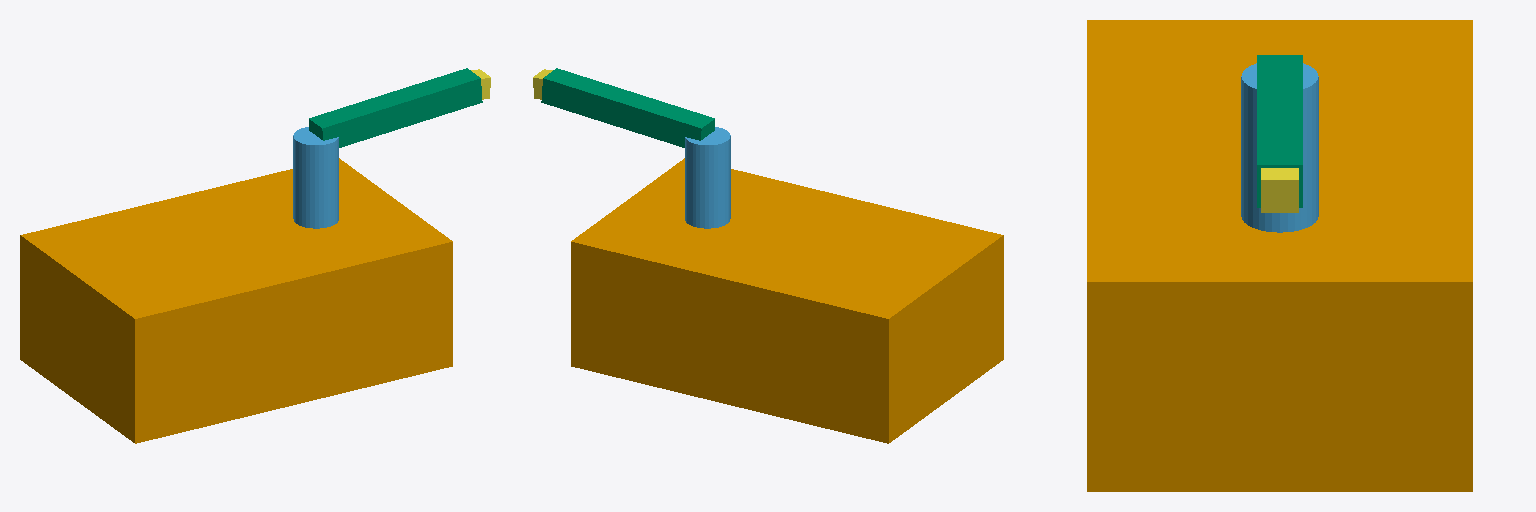
robot.urdf — mobile_manipulator:
<?xml version="1.0"?>
<!-- Articulated test robot: a skid-steer base carrying an arm whose
     elbow range excludes zero, a mimic wrist and a prismatic gripper. -->
<robot name="mobile_manipulator">
  <link name="base_link">
    <visual><geometry><box size="0.8 0.5 0.3"/></geometry></visual>
  </link>
  <link name="shoulder_link">
    <visual><origin xyz="0 0 0.1"/><geometry><cylinder radius="0.05" length="0.2"/></geometry></visual>
  </link>
  <joint name="shoulder" type="revolute">
    <parent link="base_link"/><child link="shoulder_link"/>
    <origin xyz="0.2 0 0.15"/><axis xyz="0 0 1"/>
    <limit lower="-2" upper="2" effort="10" velocity="1"/>
  </joint>
  <link name="upper_arm">
    <visual><origin xyz="0 0 0.2"/><geometry><box size="0.06 0.06 0.4"/></geometry></visual>
  </link>
  <joint name="elbow" type="revolute">
    <parent link="shoulder_link"/><child link="upper_arm"/>
    <origin xyz="0 0 0.2"/><axis xyz="0 1 0"/>
    <limit lower="0.5" upper="2.5" effort="10" velocity="1"/>
  </joint>
  <link name="wrist_link">
    <visual><geometry><box size="0.05 0.05 0.05"/></geometry></visual>
  </link>
  <joint name="wrist" type="revolute">
    <parent link="upper_arm"/><child link="wrist_link"/>
    <origin xyz="0 0 0.4"/><axis xyz="0 1 0"/>
    <limit lower="-3" upper="3" effort="10" velocity="1"/>
    <mimic joint="elbow" multiplier="-1" offset="0.1"/>
  </joint>
  <link name="finger"/>
  <joint name="finger_joint" type="prismatic">
    <parent link="wrist_link"/><child link="finger"/>
    <origin xyz="0 0 0.05"/><axis xyz="0 1 0"/>
    <limit lower="0" upper="0.04" effort="1" velocity="0.1"/>
  </joint>
  <gazebo reference="wrist_link">
    <sensor type="rgbd_camera" name="wrist_cam">
      <camera>
        <horizontal_fov>1.0</horizontal_fov>
        <image><width>424</width><height>240</height></image>
      </camera>
    </sensor>
  </gazebo>
</robot>

--- Render facts (derived) ---
3 views of the same robot in one strip: view 1: azimuth 30°, elevation 25°; view 2: azimuth 150°, elevation 25°; view 3: azimuth 270°, elevation 25° (orthographic).
Model mobile_manipulator with 5 links and 4 joints (3 revolute, 1 prismatic), rooted at base_link, posed all joints at 0 but 1 set to mid-range because 0 is outside their limits (elbow = 1.5, wrist = -1.4).
Visible links, largest first — view 1: base_link, upper_arm, shoulder_link; view 2: base_link, upper_arm, shoulder_link; view 3: base_link, shoulder_link, upper_arm, wrist_link.
Boxes of the visible links, x1,y1,x2,y2 form: base_link: (20,158,452,443); upper_arm: (309,68,482,147); shoulder_link: (293,127,338,228); base_link: (571,158,1003,443); upper_arm: (541,68,714,147); shoulder_link: (685,127,730,228); base_link: (1087,20,1472,491); shoulder_link: (1241,63,1318,232); upper_arm: (1257,55,1302,207); wrist_link: (1261,168,1298,212).
Size in the robot's own frame: 1.03 by 0.5 by 0.5582 metres.
Geometry: primitives only (box / cylinder / sphere), no mesh files.
